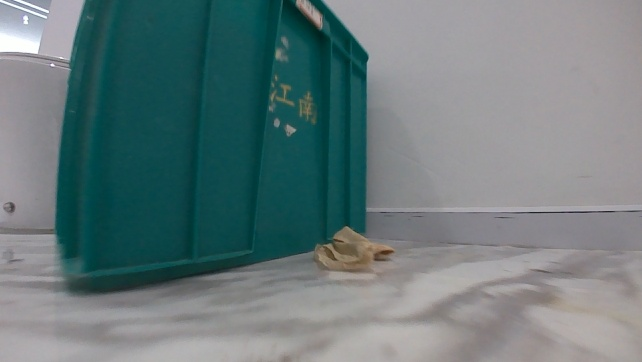socks: (308, 224, 396, 273)
toilet: (0, 48, 71, 233)
